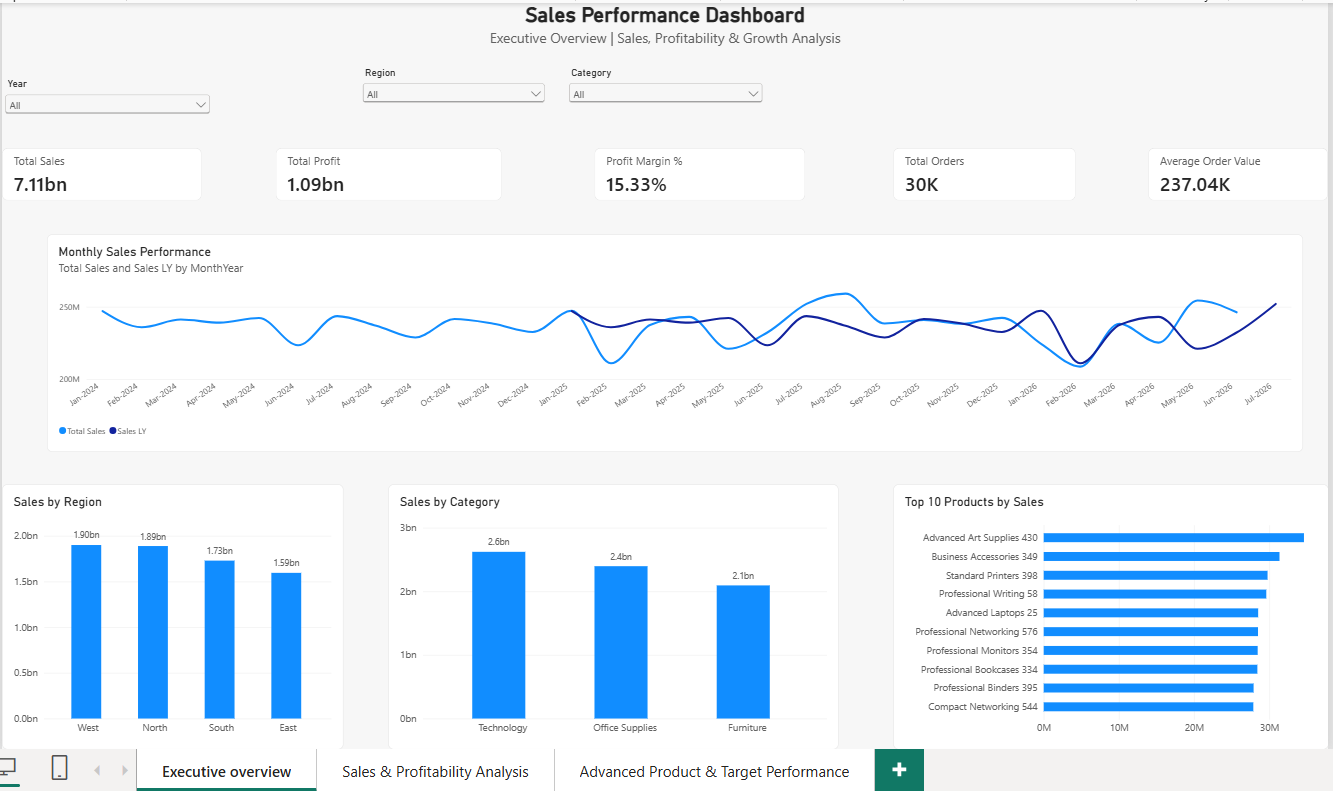

The page's visual inventory and layout, read from the dashboard file:
{"tool":"powerbi","page":{"name":"Executive overview","canvas":[1920,1080],"ordinal":0},"visuals":[{"type":"cardVisual","fields":{"Data":["_Measures.Total Sales"]},"box":[0,209.9,289.5,76],"z":0},{"type":"cardVisual","fields":{"Data":["_Measures.Profit Margin %"]},"box":[857.8,209.9,305.8,76],"z":1000},{"type":"cardVisual","fields":{"Data":["_Measures.Total Orders"]},"box":[1290.3,209.9,264.2,76],"z":2000},{"type":"cardVisual","fields":{"Data":["_Measures.Average Order Value"]},"box":[1659.5,209.9,260.6,76],"z":3000},{"type":"lineChart","title":"Monthly Sales Performance","fields":{"Category":["DimDate.MonthYear"],"Y":["_Measures.Total Sales","_Measures.Sales LY"]},"box":[65.1,334.8,1818.7,314.9],"z":4000},{"type":"clusteredColumnChart","title":"Sales by Region","fields":{"Category":["DimCustomer.Region"],"Y":["_Measures.Total Sales"]},"box":[0,696,494,384],"z":5000},{"type":"clusteredColumnChart","title":"Sales by Category","fields":{"Category":["DimProduct.Category"],"Y":["_Measures.Total Sales"]},"box":[560,696,652,384],"z":6000},{"type":"clusteredBarChart","title":"Top 10 Products by Sales","fields":{"Category":["DimProduct.ProductName"],"Y":["_Measures.Total Sales"]},"box":[1290,696,630,384],"z":7000},{"type":"cardVisual","fields":{"Data":["_Measures.Total Profit"]},"box":[396.3,209.9,327.5,76],"z":8000},{"type":"textbox","title":"Sales Performance Dashboard","box":[0,0,1920.1,68.8],"z":8001},{"type":"slicer","fields":{"Values":["DimDate.Year"]},"box":[0,108,305.8,65.1],"z":8002},{"type":"slicer","fields":{"Values":["DimCustomer.Region"]},"box":[517.6,92.3,273.3,81.4],"z":8003},{"type":"slicer","fields":{"Values":["DimProduct.Category"]},"box":[816.2,92.3,289.5,65.1],"z":8004}]}

Visuals, with their boxes on the page's 1920x1080 design canvas (x1, y1, x2, y2). These are canvas units, not pixel positions in the 1333x791 screenshot, which may show the page scaled, cropped or inside an application window:
cardVisual - _Measures.Total Sales: detection(0, 210, 290, 286)
cardVisual - _Measures.Profit Margin %: detection(858, 210, 1164, 286)
cardVisual - _Measures.Total Orders: detection(1290, 210, 1554, 286)
cardVisual - _Measures.Average Order Value: detection(1660, 210, 1920, 286)
"Monthly Sales Performance" lineChart: detection(65, 335, 1884, 650)
"Sales by Region" clusteredColumnChart: detection(0, 696, 494, 1080)
"Sales by Category" clusteredColumnChart: detection(560, 696, 1212, 1080)
"Top 10 Products by Sales" clusteredBarChart: detection(1290, 696, 1920, 1080)
cardVisual - _Measures.Total Profit: detection(396, 210, 724, 286)
"Sales Performance Dashboard" textbox: detection(0, 0, 1920, 69)
slicer - DimDate.Year: detection(0, 108, 306, 173)
slicer - DimCustomer.Region: detection(518, 92, 791, 174)
slicer - DimProduct.Category: detection(816, 92, 1106, 157)
